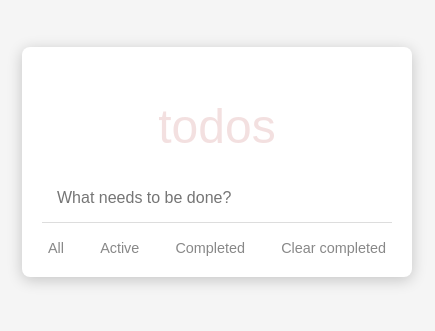
Scenario: ToDo App › should clear completed todos
Добавляем задачу
Type "Task to complete" into the field with placeholder "What needs to be done?".
click(217, 199); type("Task to complete")  # box [42,174,392,223]
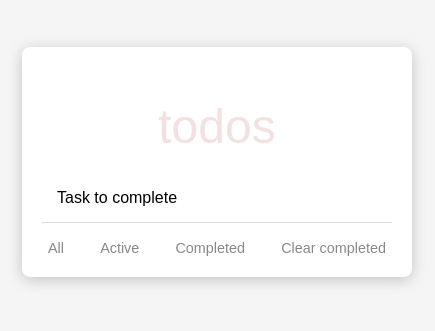
Submit the form from the field with placeholder "What needs to be done?", box [42,174,392,223]
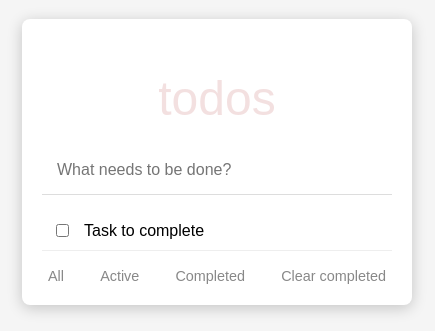
Отмечаем задачу как выполненную
Click the checkbox labelled "Task to complete".
click(62, 231)  # box [56,224,69,237]
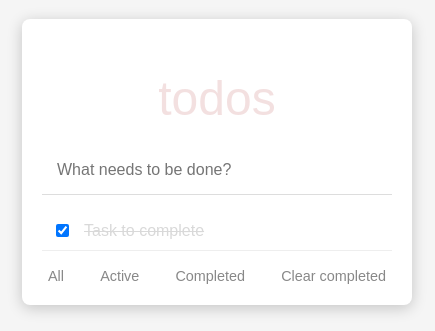
Нажимаем на "Clear completed"
Click the button "Clear completed".
click(334, 276)  # box [275,267,392,285]
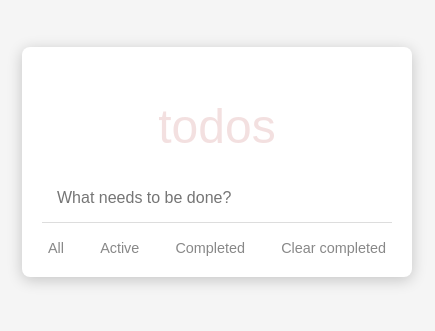
Now the text "Task to complete" is gone
